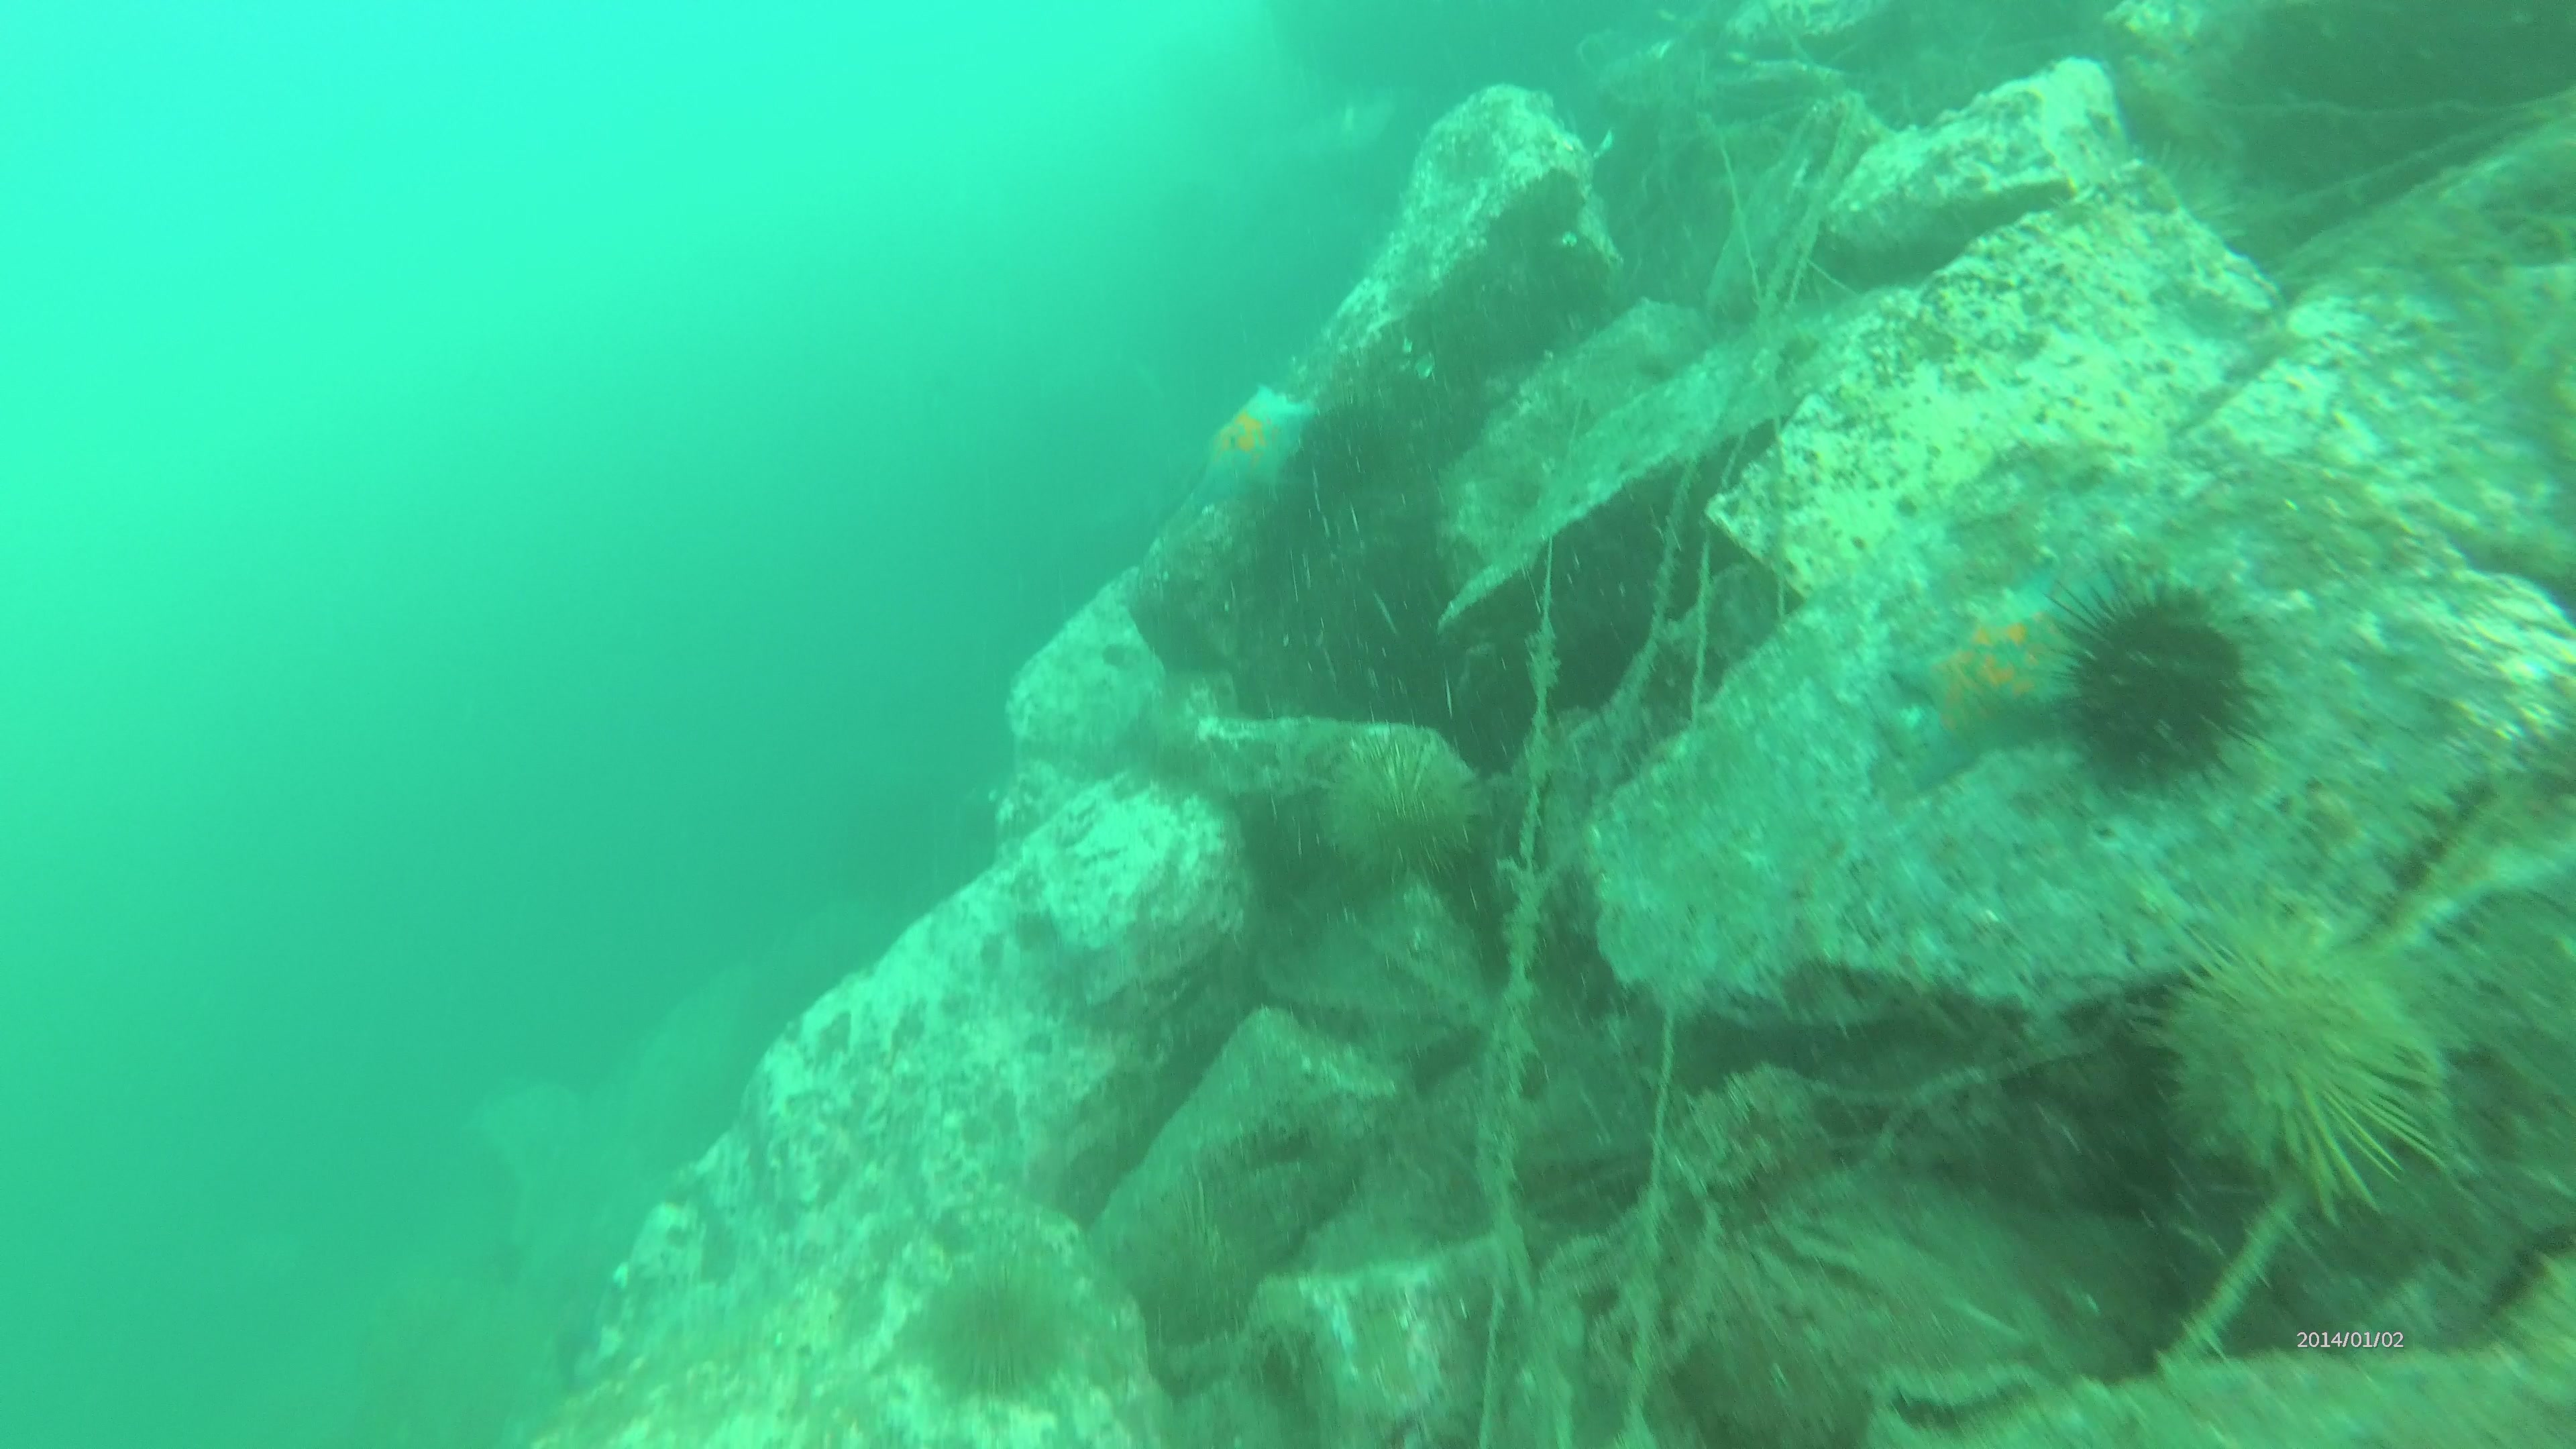echinus: (2162, 909, 2457, 1217), (2054, 582, 2265, 780), (1691, 1316, 1882, 1449), (1307, 752, 1481, 878), (1132, 1210, 1276, 1338), (916, 1254, 1046, 1384)
starfish: (1877, 630, 2089, 770), (1210, 396, 1325, 508)
